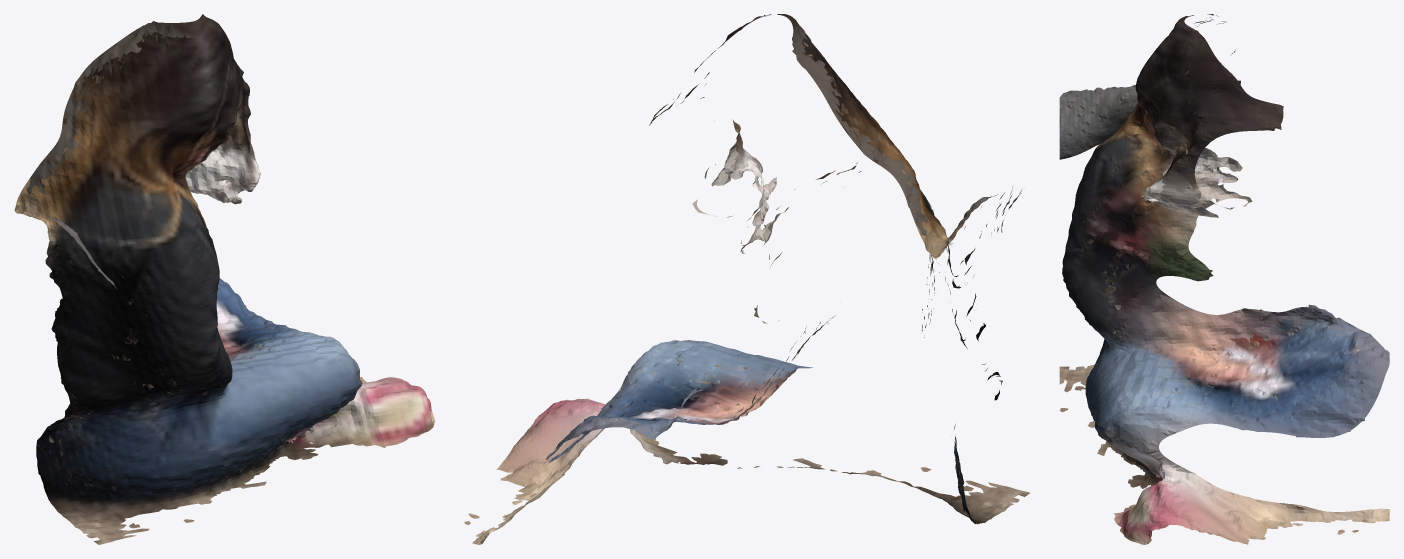
The picture shows the model from 3 angles, left to right: view 1: azimuth 30°, elevation 25°; view 2: azimuth 150°, elevation 25°; view 3: azimuth 270°, elevation 25°; orthographic projection. The views are drawn at different scales.
Size of the model in its own units: 0.7129 by 0.7827 by 0.5575.
Materials: 1 (1 with a texture image).
